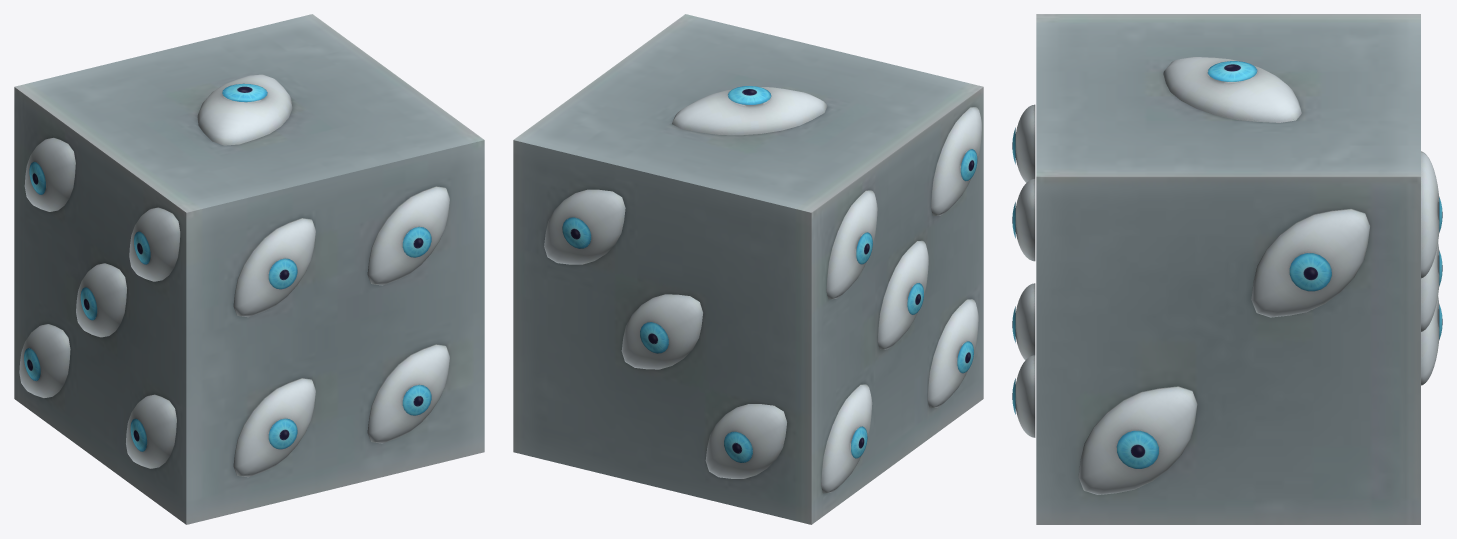
The model's file is cubo_prison.glb.
3 renders of one model, left to right at view 1: azimuth 30°, elevation 25°; view 2: azimuth 150°, elevation 25°; view 3: azimuth 270°, elevation 25°, orthographic. The views are drawn at different scales.
Visible parts, largest first — view 1: cubo_prison; view 2: cubo_prison; view 3: cubo_prison.
Part boxes in pixels (box(x1,y1,x2,y2)): cubo_prison: box(14, 14, 484, 524); cubo_prison: box(513, 14, 983, 524); cubo_prison: box(1012, 14, 1442, 524).
Size of the model in its own units: 0.0999 by 0.1 by 0.0988.
Materials: 1 (1 with a texture image).
